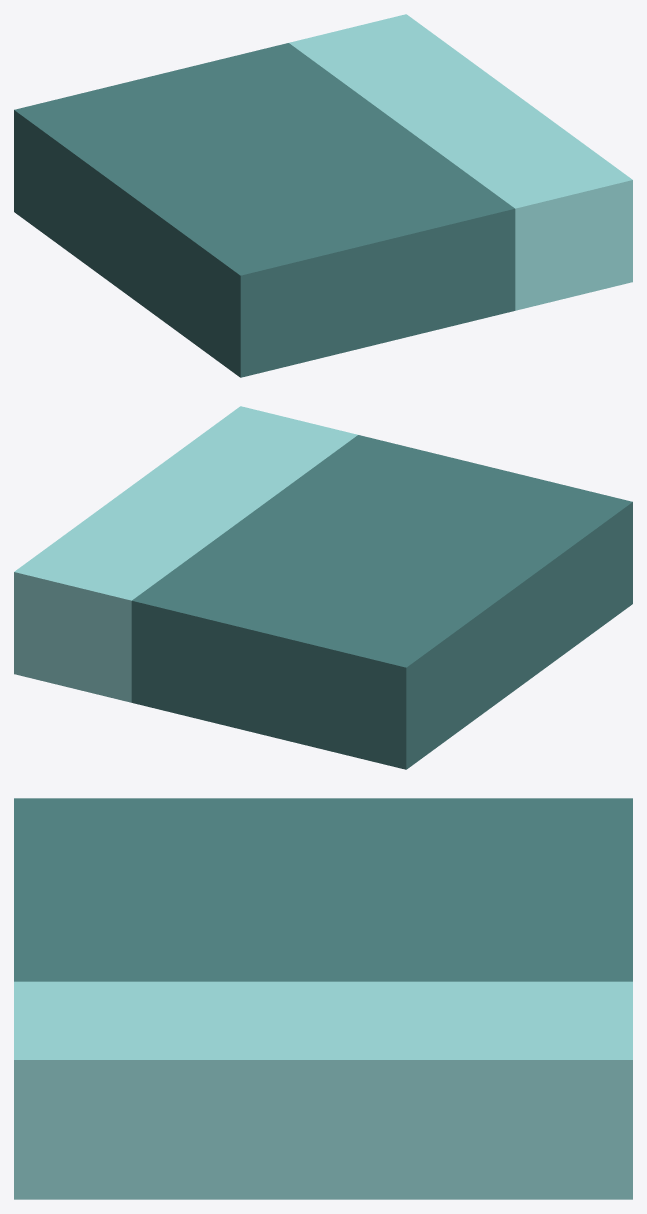
Rendered from sol_3_repar.fbx.
3 views of the same model, one above another, from view 1: azimuth 30°, elevation 25°; view 2: azimuth 150°, elevation 25°; view 3: azimuth 270°, elevation 25° (orthographic). The views are drawn at different scales.
Parts seen in each view (by area): view 1: pCube81; view 2: pCube81; view 3: pCube81.
Boxes of the visible parts, <box> form: pCube81: <box>14,14,632,377</box>; pCube81: <box>14,406,632,769</box>; pCube81: <box>14,798,632,1199</box>.
Bounding box in the file's own units: 1 × 0.2487 × 1.
